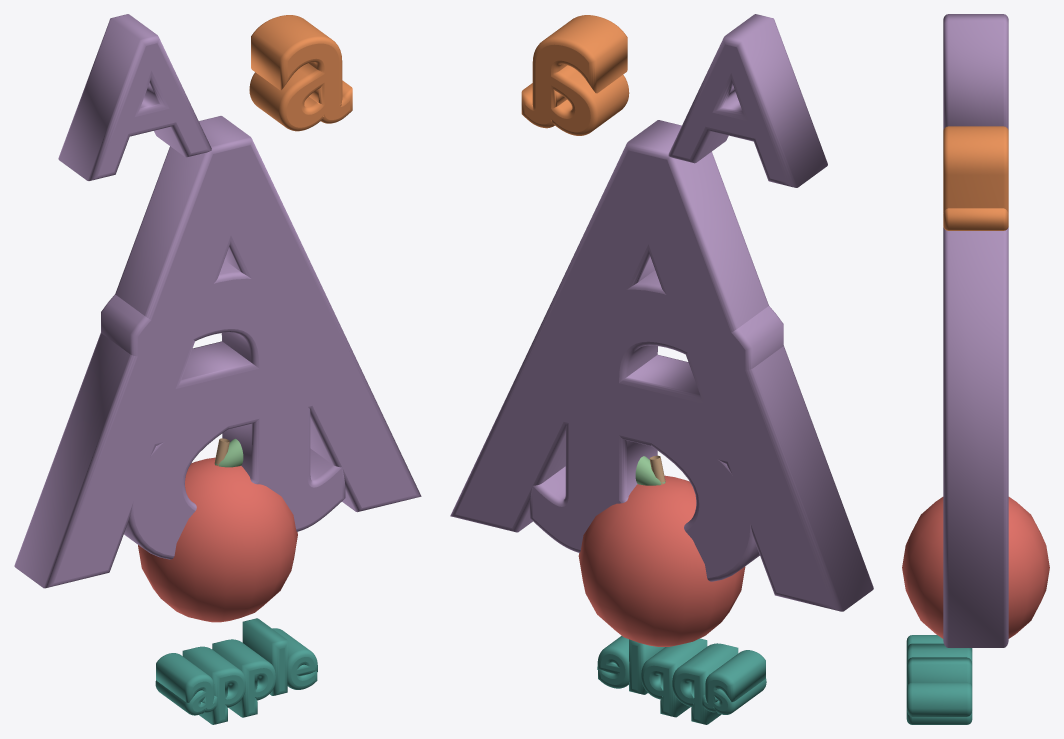
Rendered from letter-a.glb.
3 views of the same model, side by side, from view 1: azimuth 30°, elevation 25°; view 2: azimuth 150°, elevation 25°; view 3: azimuth 270°, elevation 25° (orthographic). The views are drawn at different scales.
Parts seen in each view (by area): view 1: letter solid, letter solid.001, apple, uppercase solid, example word, lowercase solid; view 2: letter solid, letter solid.001, apple, uppercase solid, example word, lowercase solid; view 3: letter solid, apple, uppercase solid, lowercase solid, example word.
Boxes of the visible parts, x1=… form: letter solid: x1=14, y1=116, x2=421, y2=588; letter solid.001: x1=101, y1=260, x2=345, y2=559; apple: x1=138, y1=457, x2=297, y2=622; uppercase solid: x1=58, y1=14, x2=211, y2=180; example word: x1=155, y1=618, x2=317, y2=724; lowercase solid: x1=249, y1=15, x2=352, y2=131; letter solid: x1=450, y1=120, x2=873, y2=611; letter solid.001: x1=529, y1=270, x2=783, y2=581; apple: x1=578, y1=475, x2=745, y2=646; uppercase solid: x1=668, y1=14, x2=827, y2=187; example word: x1=597, y1=636, x2=766, y2=724; lowercase solid: x1=521, y1=15, x2=629, y2=135; letter solid: x1=943, y1=227, x2=1008, y2=647; apple: x1=902, y1=497, x2=1049, y2=638; uppercase solid: x1=943, y1=14, x2=1008, y2=129; lowercase solid: x1=943, y1=126, x2=1008, y2=230; example word: x1=906, y1=635, x2=972, y2=724.
Size of the model in its own units: 1.15 by 1.98 by 0.406.
